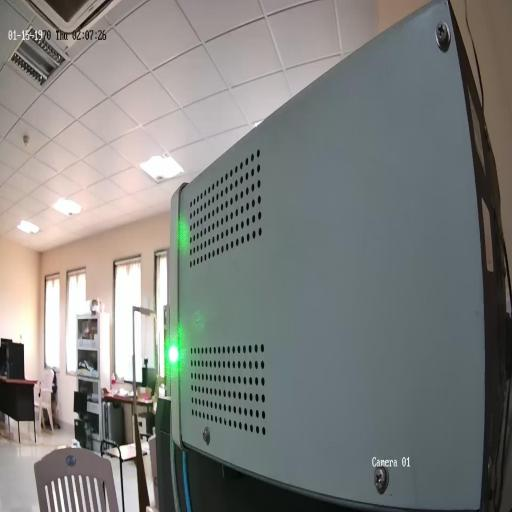laser: (166, 342, 180, 368)
